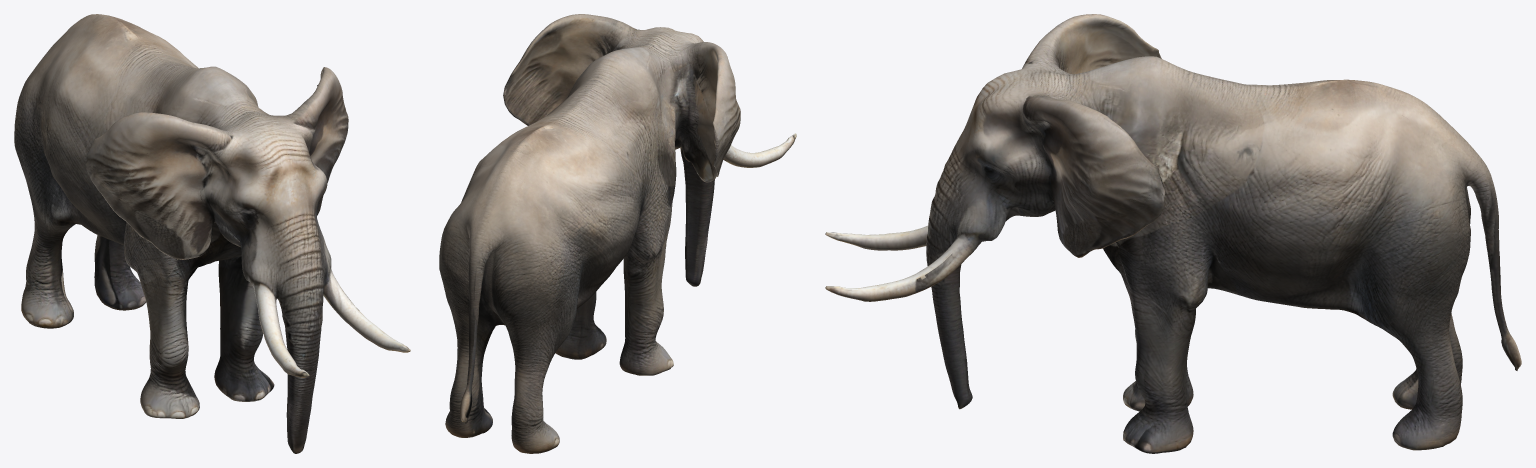
Rendered from a_elephent_1117114509_refine.fbx.
3 renders of one model, left to right at view 1: azimuth 30°, elevation 25°; view 2: azimuth 150°, elevation 25°; view 3: azimuth 270°, elevation 25°, orthographic. The views are drawn at different scales.
Parts seen in each view (by area): view 1: Mesh1_Mesh1.001; view 2: Mesh1_Mesh1.001; view 3: Mesh1_Mesh1.001.
Part boxes in pixels (x1=…): Mesh1_Mesh1.001: x1=14, y1=14, x2=410, y2=453; Mesh1_Mesh1.001: x1=439, y1=14, x2=796, y2=453; Mesh1_Mesh1.001: x1=825, y1=14, x2=1521, y2=453.
Bounding box in the file's own units: 85.66 × 115 × 199.
Materials: 1 (1 with a texture image).
